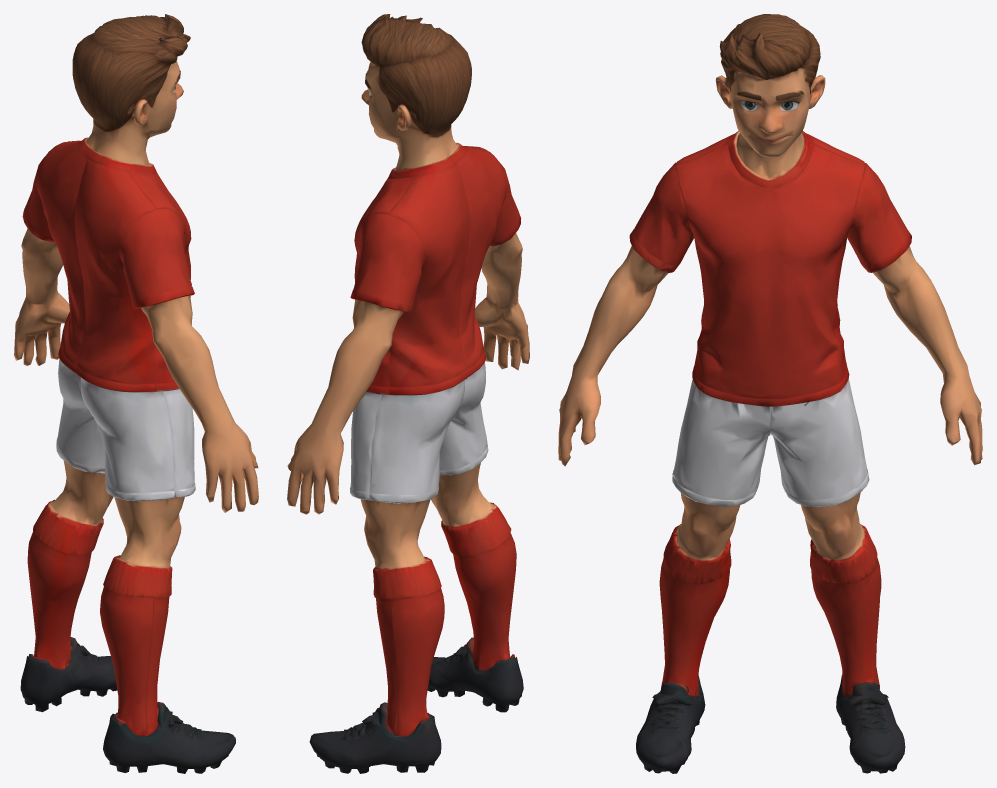
File: gen.glb
3 views of the same model, side by side, from view 1: azimuth 30°, elevation 25°; view 2: azimuth 150°, elevation 25°; view 3: azimuth 270°, elevation 25° (orthographic). The views are drawn at different scales.
Parts seen in each view (by area): view 1: tripo_node_842e6737-fffc-4ec0-acbe-0902953c779f; view 2: tripo_node_842e6737-fffc-4ec0-acbe-0902953c779f; view 3: tripo_node_842e6737-fffc-4ec0-acbe-0902953c779f.
Part boxes in pixels (left/top/right/bottom): tripo_node_842e6737-fffc-4ec0-acbe-0902953c779f: left=14, top=14, right=258, bottom=773; tripo_node_842e6737-fffc-4ec0-acbe-0902953c779f: left=287, top=14, right=529, bottom=773; tripo_node_842e6737-fffc-4ec0-acbe-0902953c779f: left=558, top=14, right=982, bottom=773.
Bounding box in the file's own units: 0.1702 × 0.98 × 0.5097.
1 material, 1 textured.
